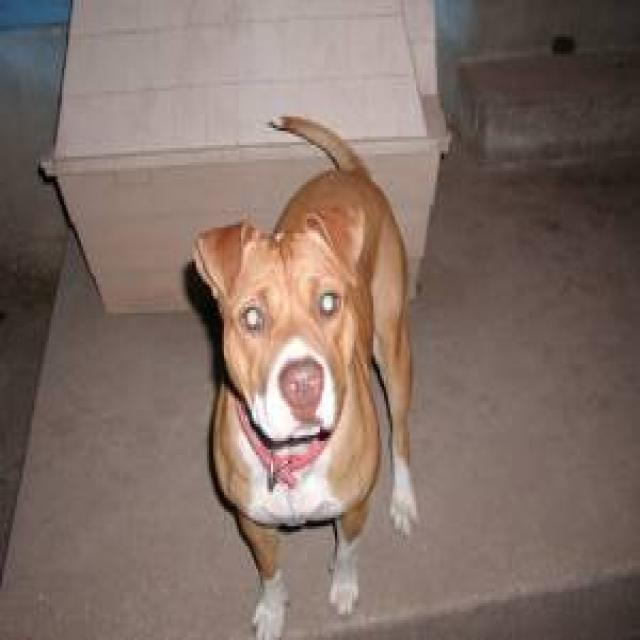dog-american_pit_bull_terrier: (192, 108, 420, 634)
